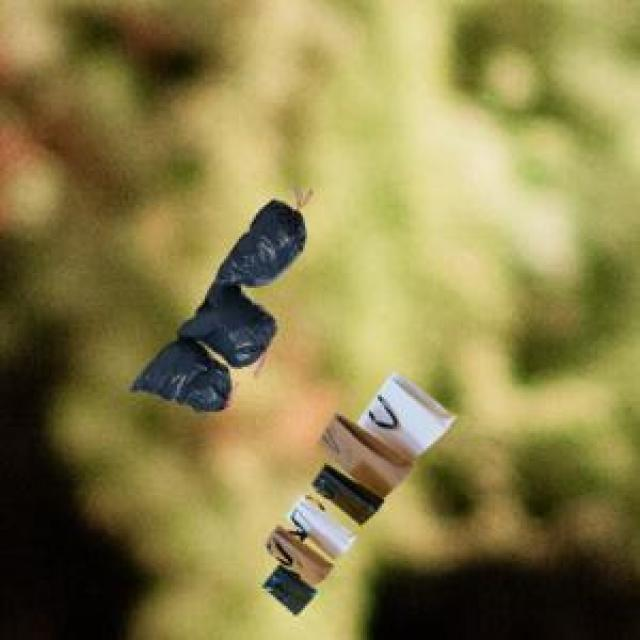miscellaneous trash: (126, 196, 301, 408)
paper: (260, 367, 450, 610)
